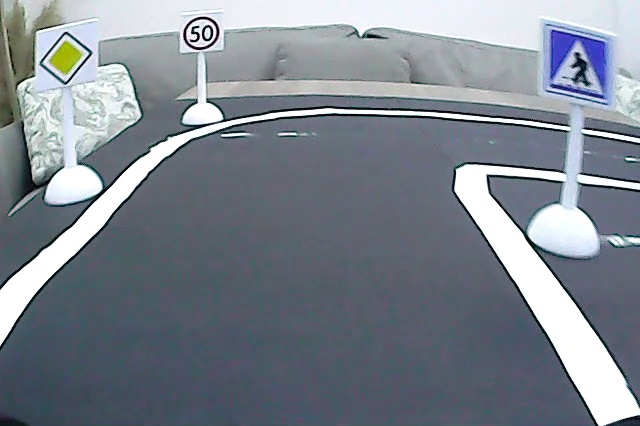pedestrian crossing: (541, 25, 610, 102)
speed limit 50: (183, 14, 221, 50)
